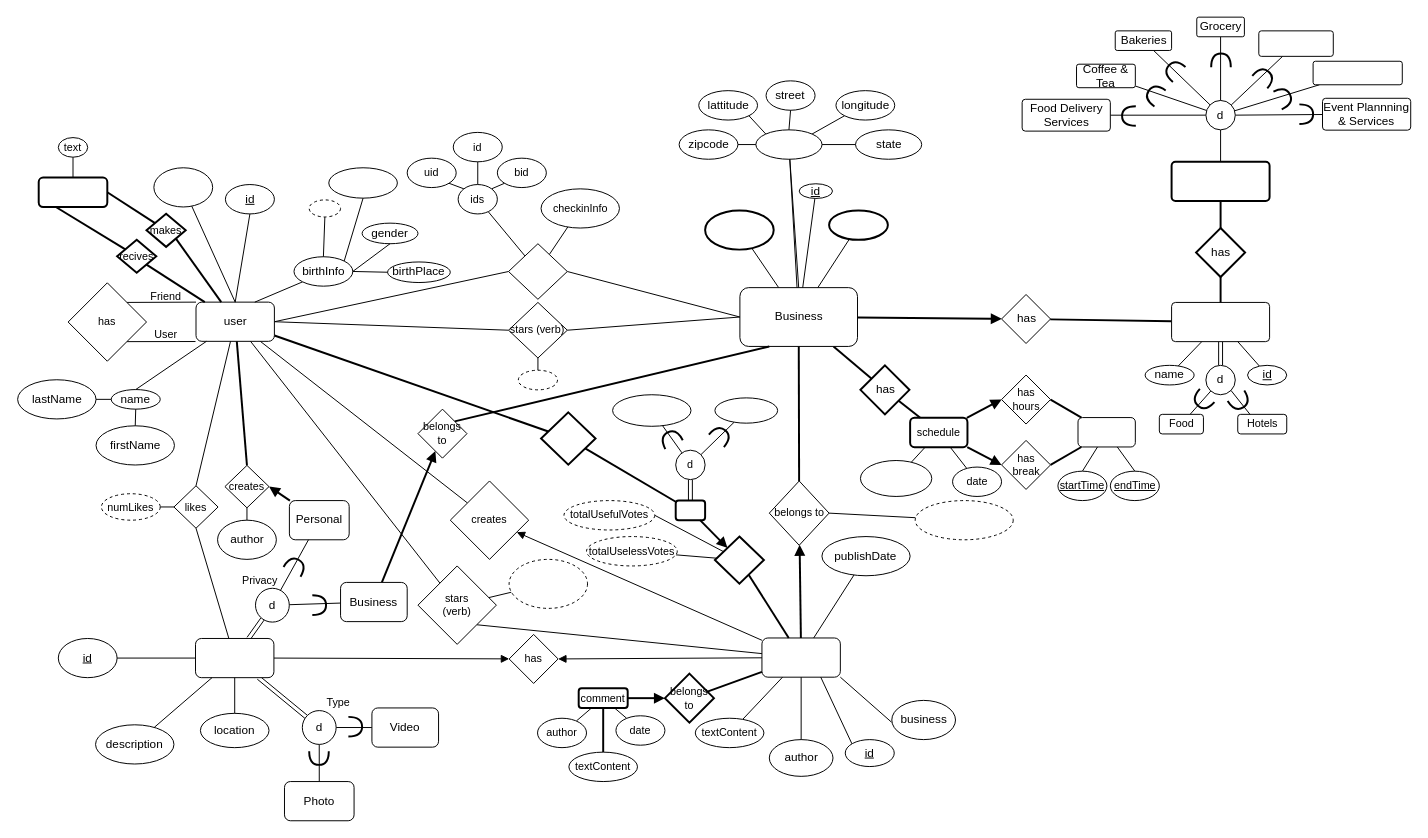
Image size: 1428x838. Some labels were removed from this diagram. The shapes that lost their labels are listed below. From the top down, each one's centre as x and y in pixels, then its label:
the point at 1295,43: Car Rentals
the point at 1357,72: Bed & Breakfast
the point at 788,144: address
the point at 72,191: compliment
the point at 183,187: email
the point at 362,182: dateOfBirth
the point at 1220,180: subCategories
the point at 324,208: age
the point at 858,224: ambiance
the point at 739,229: parkingType
the point at 537,271: check in
the point at 1220,321: businessCategory
the point at 537,379: stars
the point at 651,410: notUseful
the point at 746,410: useful
the point at 568,438: casts vote
the point at 1106,432: timeRange
the point at 895,478: dayOfWeek
the point at 690,510: vote
the point at 963,520: numberOfReviews
the point at 738,559: belong to
the point at 548,583: stars (plural noun)
the point at 234,657: Multimedia
the point at 800,657: Review
